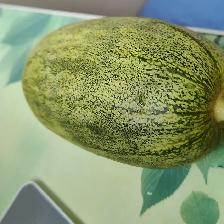gua: (31, 28, 208, 152)
